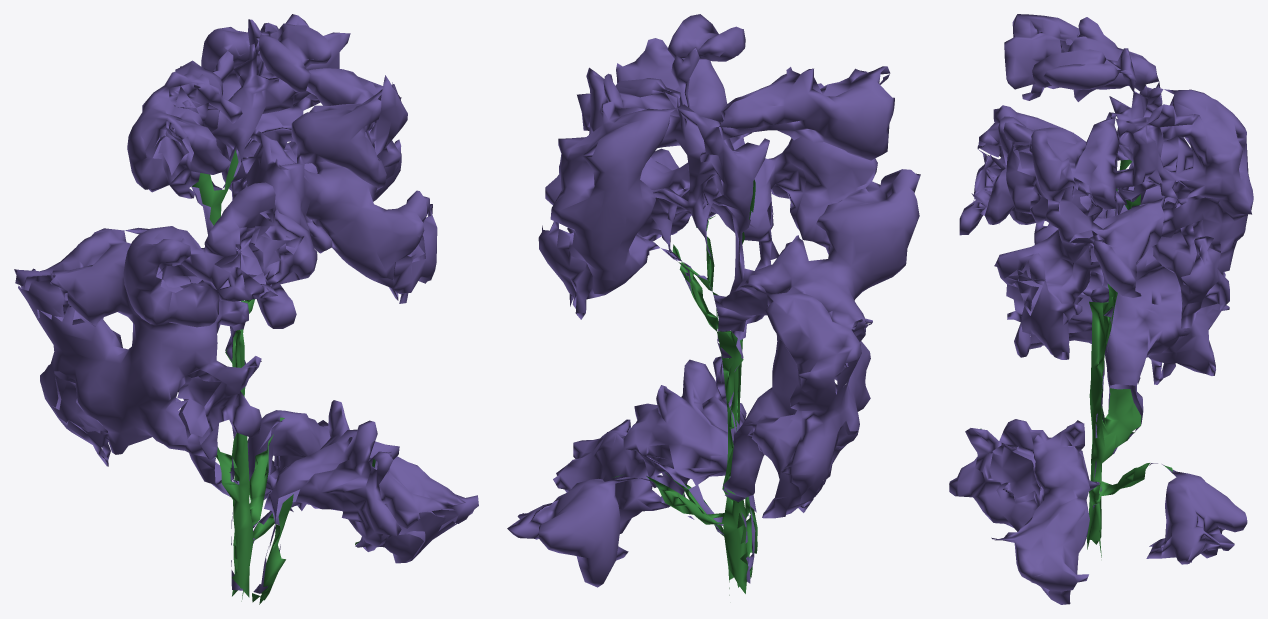
3 renders of one model, left to right at view 1: azimuth 30°, elevation 25°; view 2: azimuth 150°, elevation 25°; view 3: azimuth 270°, elevation 25°, orthographic. The views are drawn at different scales.
Parts seen in each view (by area): view 1: ead6b1ef; view 2: ead6b1ef; view 3: ead6b1ef.
Boxes of the visible parts, x1,y1,x2,y2 form: ead6b1ef: (14,14,478,604); ead6b1ef: (507,14,920,595); ead6b1ef: (949,14,1253,604).
Size of the model in its own units: 0.0917 by 0.1329 by 0.0701.
